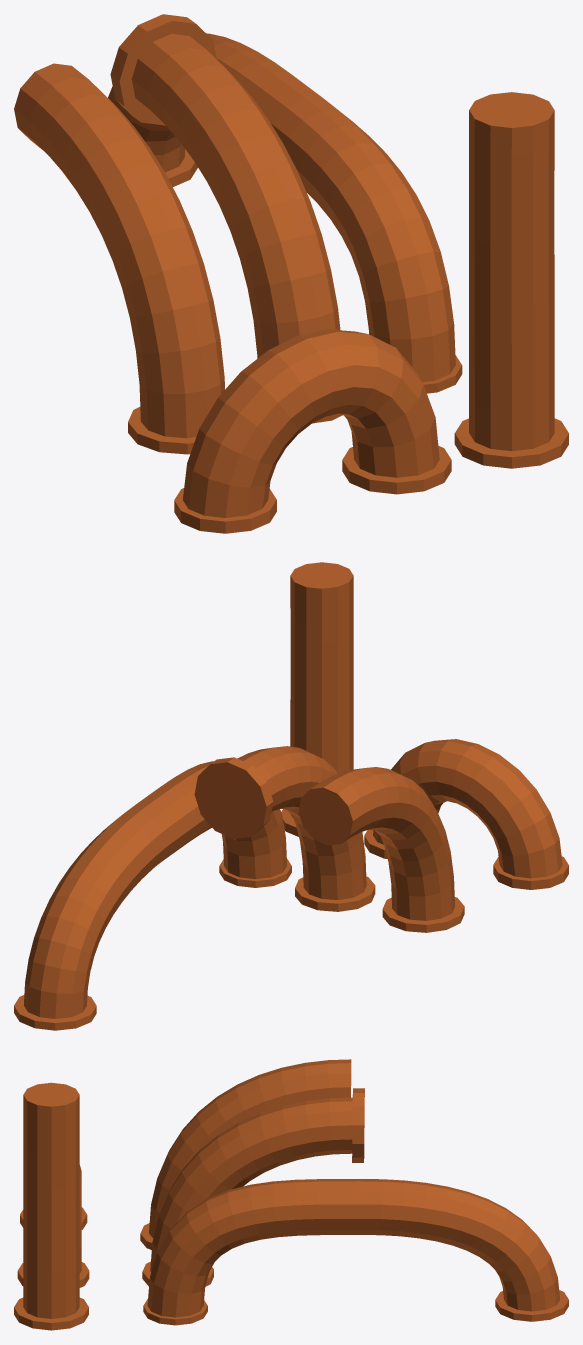
Rendered from Pipes.fbx.
The picture shows the model from 3 angles, top to bottom: view 1: azimuth 30°, elevation 25°; view 2: azimuth 150°, elevation 25°; view 3: azimuth 270°, elevation 25°; orthographic projection. The views are drawn at different scales.
Visible parts, largest first — view 1: BézierCurve.004, BézierCurve.003, BézierCurve.002, BézierCurve, BézierCurve.001; view 2: BézierCurve.001, BézierCurve.004, BézierCurve, BézierCurve.002, BézierCurve.003; view 3: BézierCurve.001, BézierCurve.003, BézierCurve, BézierCurve.004, BézierCurve.002.
Boxes of the visible parts, x1,y1,x2,y2 form: BézierCurve.004: (14,63,224,454); BézierCurve.003: (454,92,568,468); BézierCurve.002: (174,329,451,533); BézierCurve: (110,14,342,423); BézierCurve.001: (108,33,462,393); BézierCurve.001: (14,761,291,1030); BézierCurve.004: (298,767,464,932); BézierCurve: (194,746,375,911); BézierCurve.002: (364,739,568,889); BézierCurve.003: (281,562,353,836); BézierCurve.001: (143,1179,568,1325); BézierCurve.003: (14,1082,88,1330); BézierCurve: (142,1088,364,1286); BézierCurve.004: (140,1059,351,1249); BézierCurve.002: (17,1165,89,1287).
Bounding box in the file's own units: 693 × 585 × 1337.
